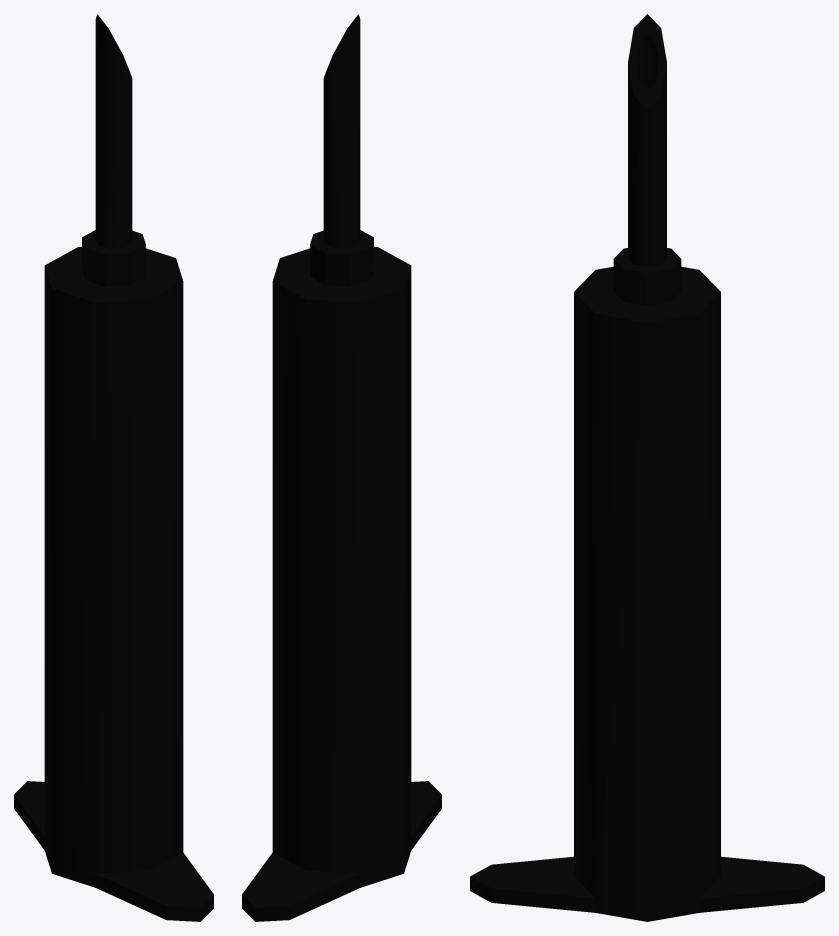
The model's file is Char_PG_Syringe_Body.FBX.
3 renders of one model, left to right at view 1: azimuth 30°, elevation 25°; view 2: azimuth 150°, elevation 25°; view 3: azimuth 270°, elevation 25°, orthographic. The views are drawn at different scales.
Visible parts, largest first — view 1: Cylinder009; view 2: Cylinder009; view 3: Cylinder009.
Part boxes in pixels (box(x1,y1,x2,y2)): Cylinder009: box(14, 14, 213, 921); Cylinder009: box(242, 14, 441, 921); Cylinder009: box(470, 14, 824, 921).
Size of the model in its own units: 25.53 by 167 by 61.74.
